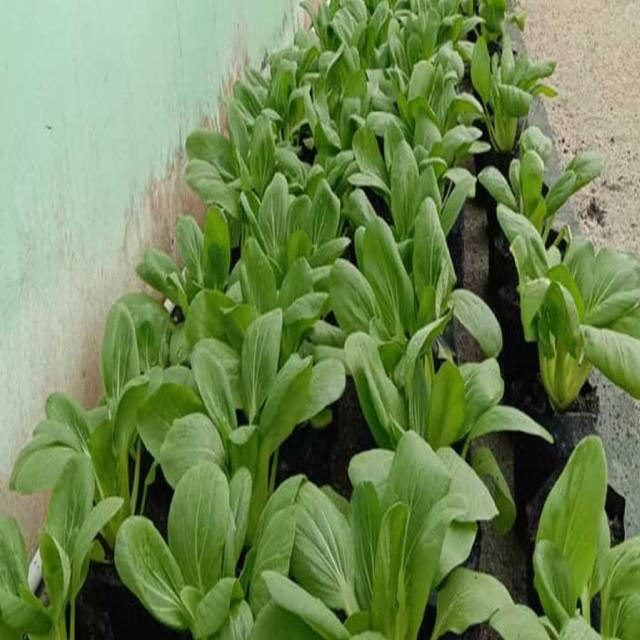pakcoy_sehat: (244, 171, 347, 362)
